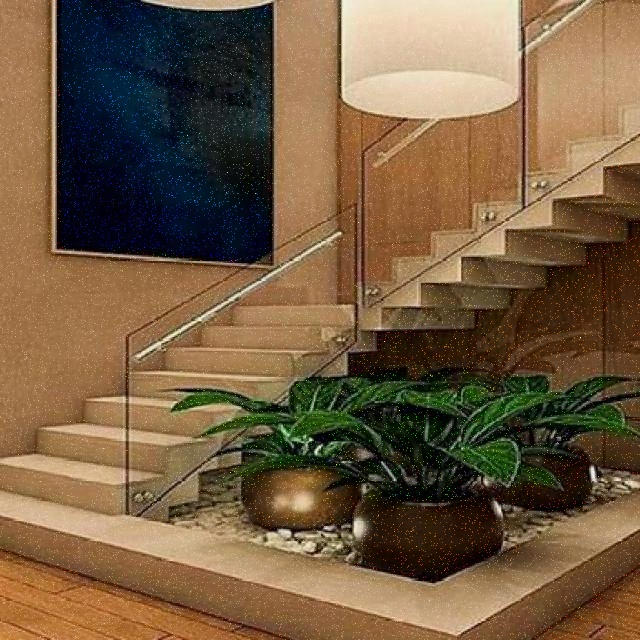stair: (0, 248, 371, 546), (318, 38, 638, 350)
